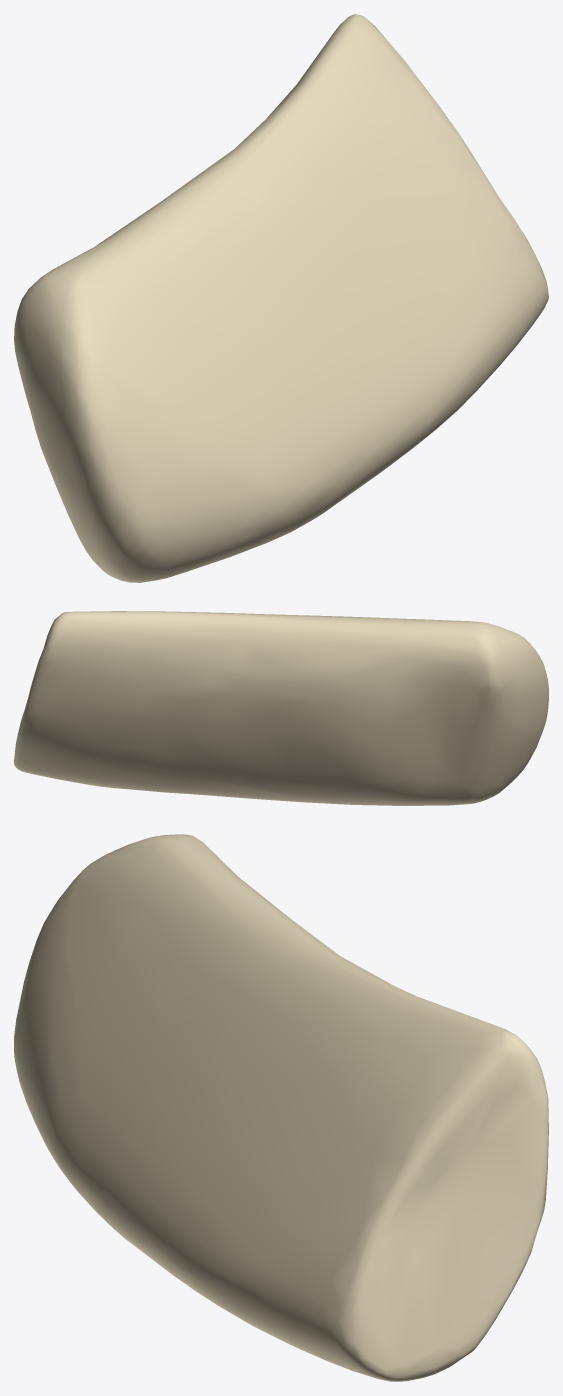
Rendered from esqueleto-costal-cartilage-of-second-rib-l.glb.
3 renders of one model, top to bottom at view 1: azimuth 30°, elevation 25°; view 2: azimuth 150°, elevation 25°; view 3: azimuth 270°, elevation 25°, orthographic. The views are drawn at different scales.
Parts seen in each view (by area): view 1: Costal cartilage of second rib.l; view 2: Costal cartilage of second rib.l; view 3: Costal cartilage of second rib.l.
Boxes of the visible parts, bbox=[...] form: Costal cartilage of second rib.l: bbox=[14, 14, 548, 582]; Costal cartilage of second rib.l: bbox=[14, 611, 548, 805]; Costal cartilage of second rib.l: bbox=[14, 834, 548, 1381].
Size of the model in its own units: 0.0333 by 0.0167 by 0.0243.
